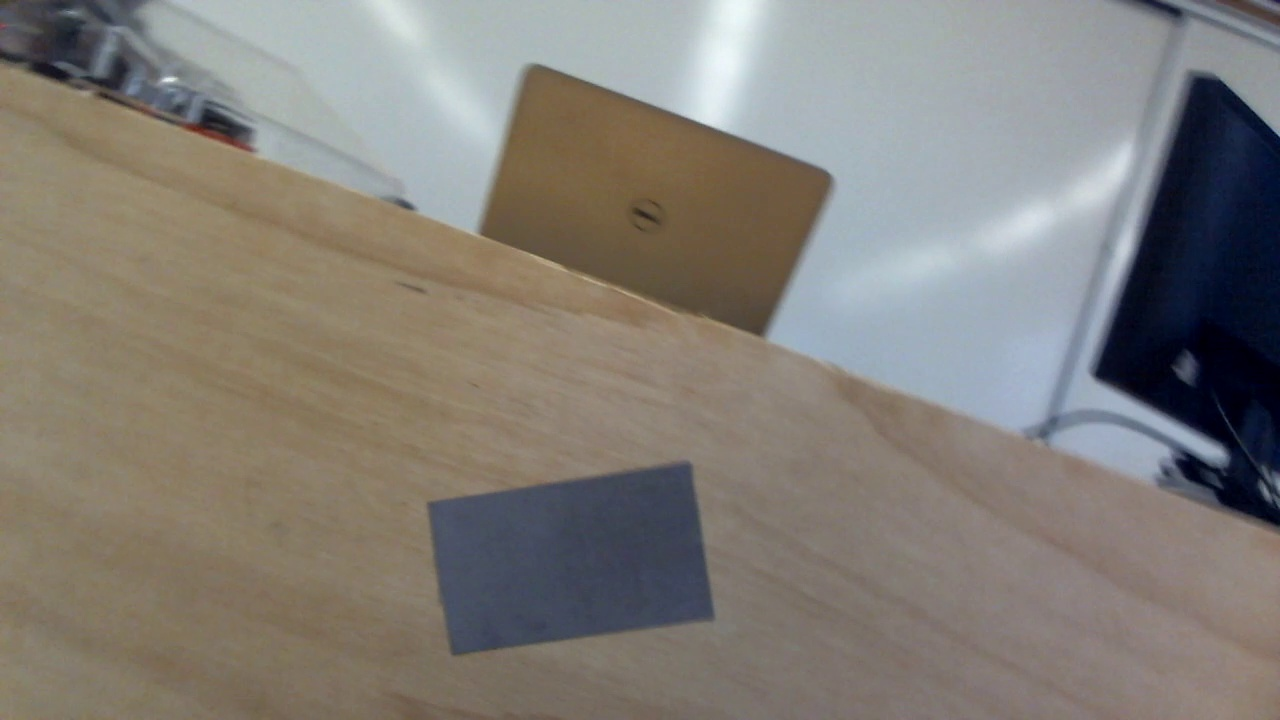Tape: (428, 464, 718, 657)
